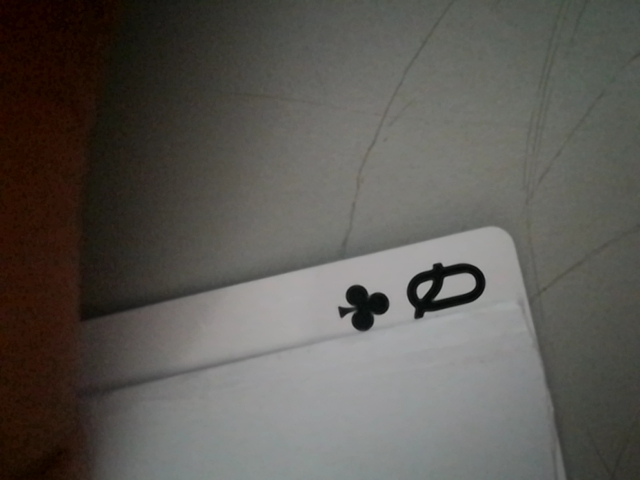mh q: (314, 249, 505, 344)
